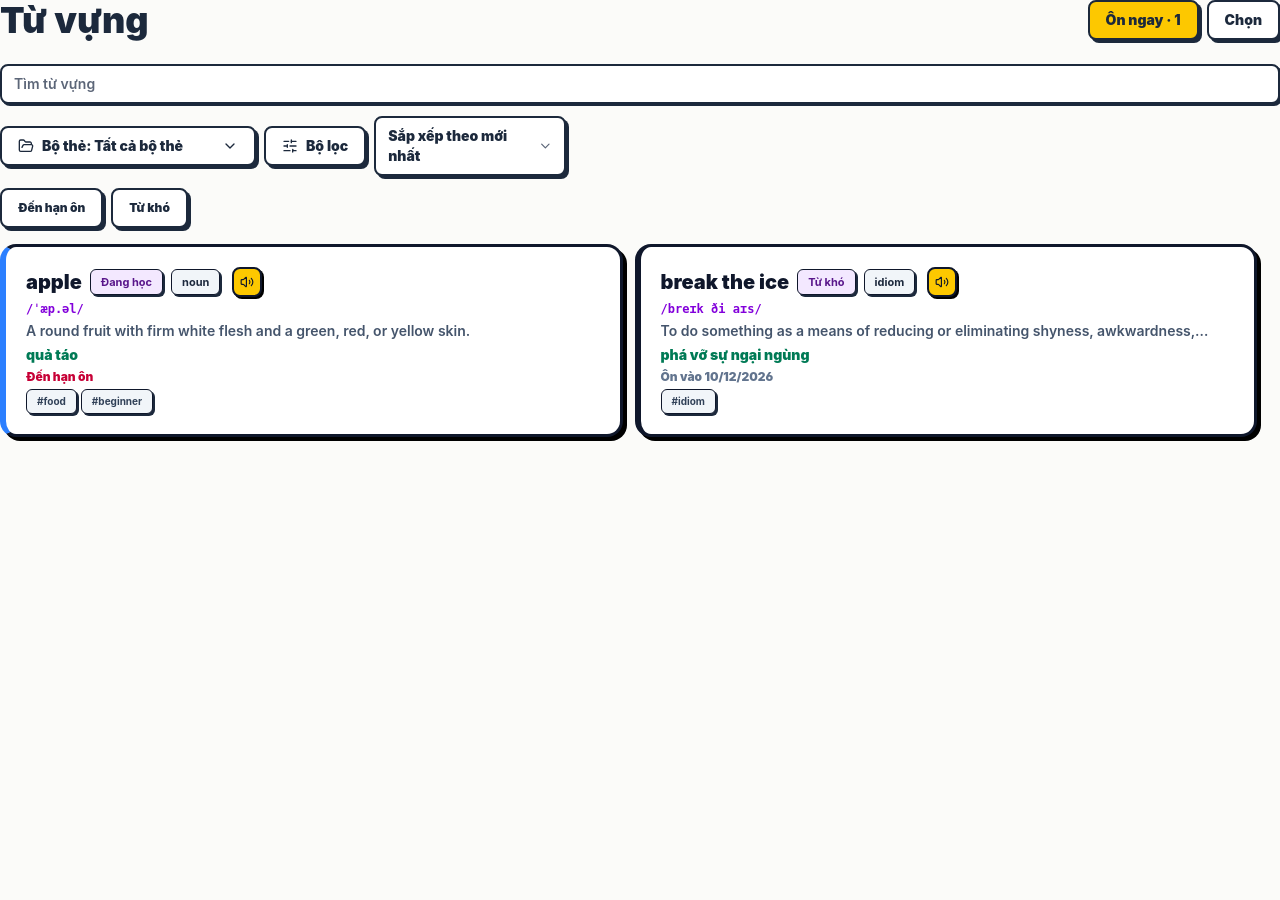
Test: VocabularyListPage bulk lessons › creates named lesson batches and offers the deck list from feedback
The width and height of the screenshot is (1280, 900).
Click the button "Chọn" at (1243, 20), box [1207,0,1279,40]
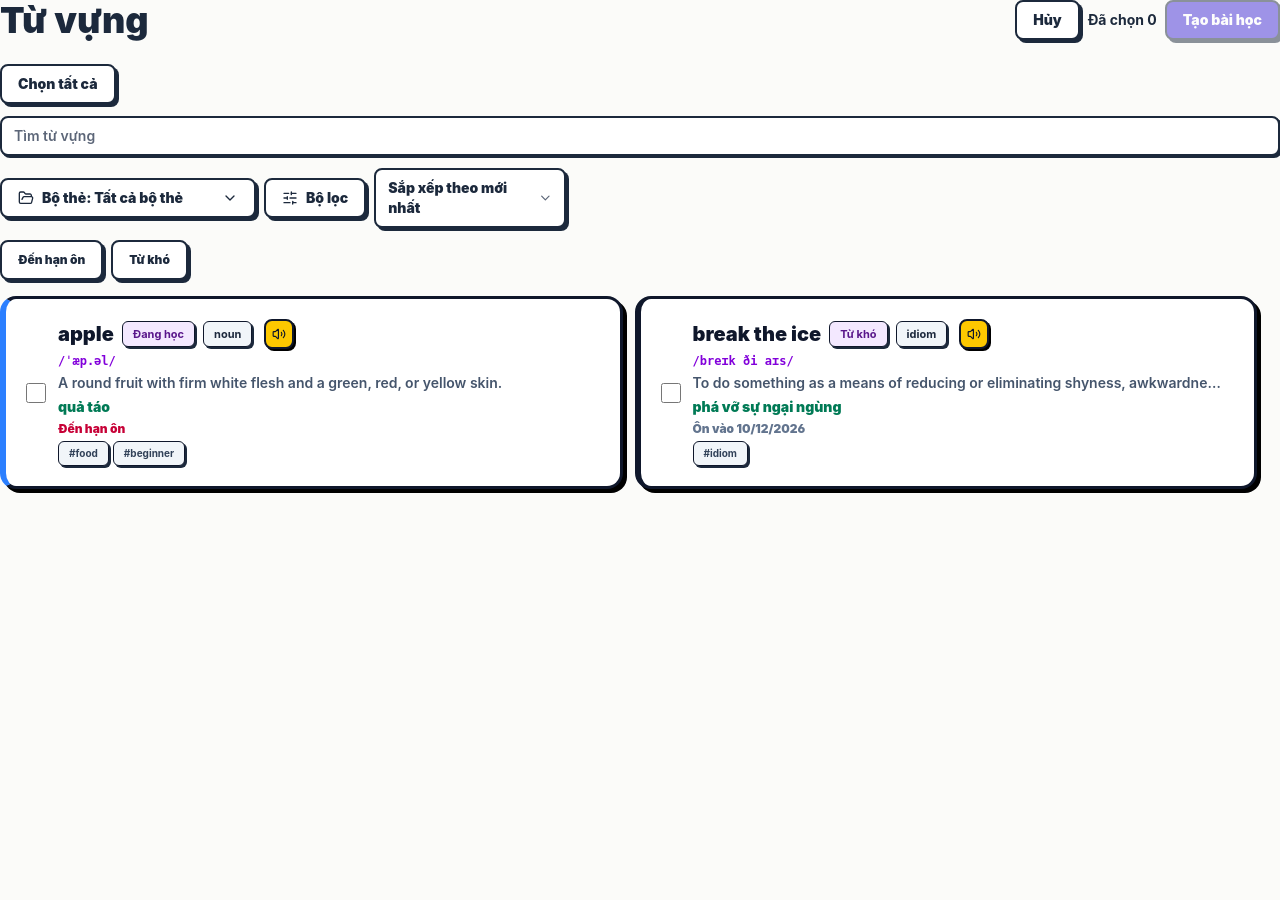
Click the button "Chọn tất cả" at (58, 84), box [0,64,116,104]
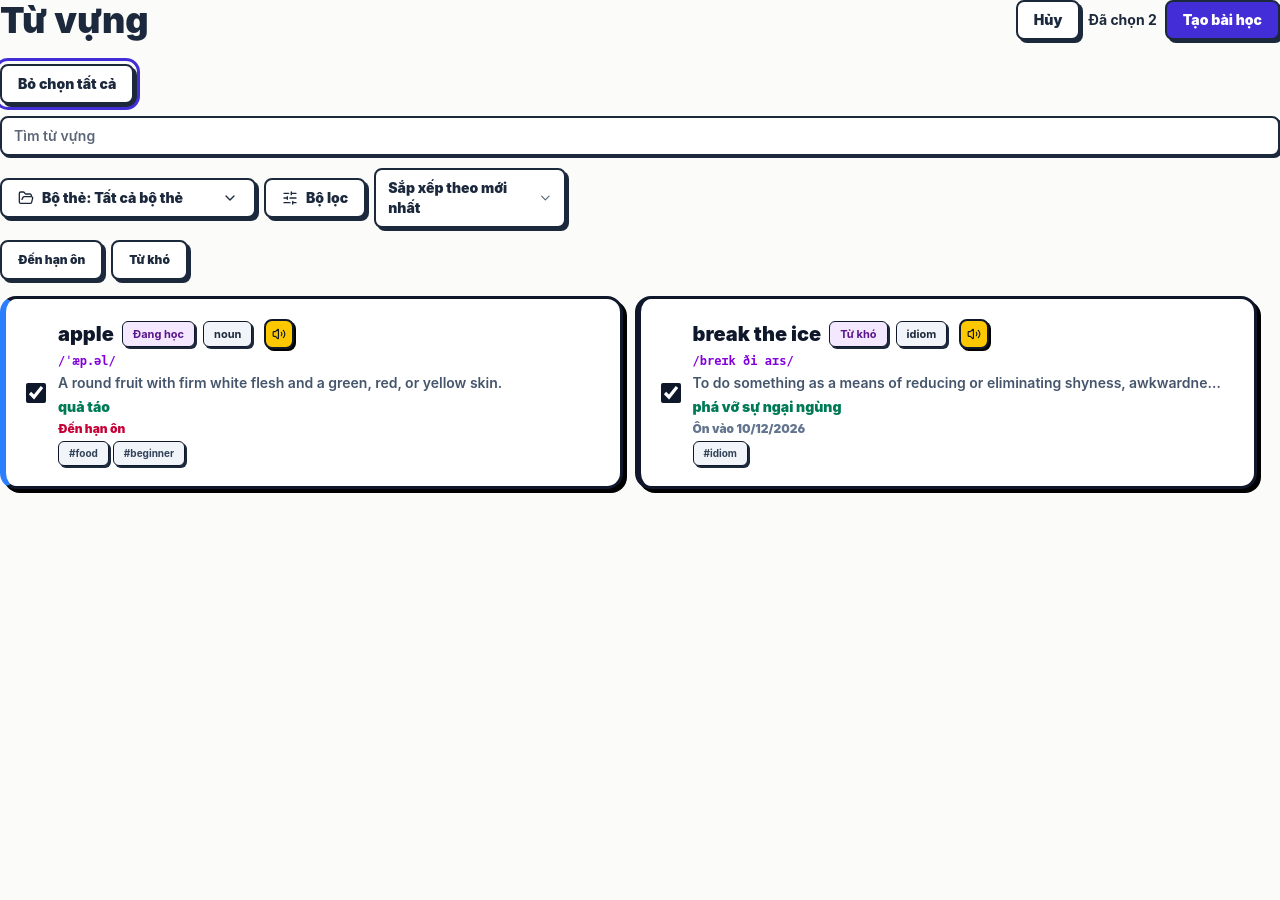
Click the button "Tạo bài học" at (1222, 20), box [1165,0,1279,40]
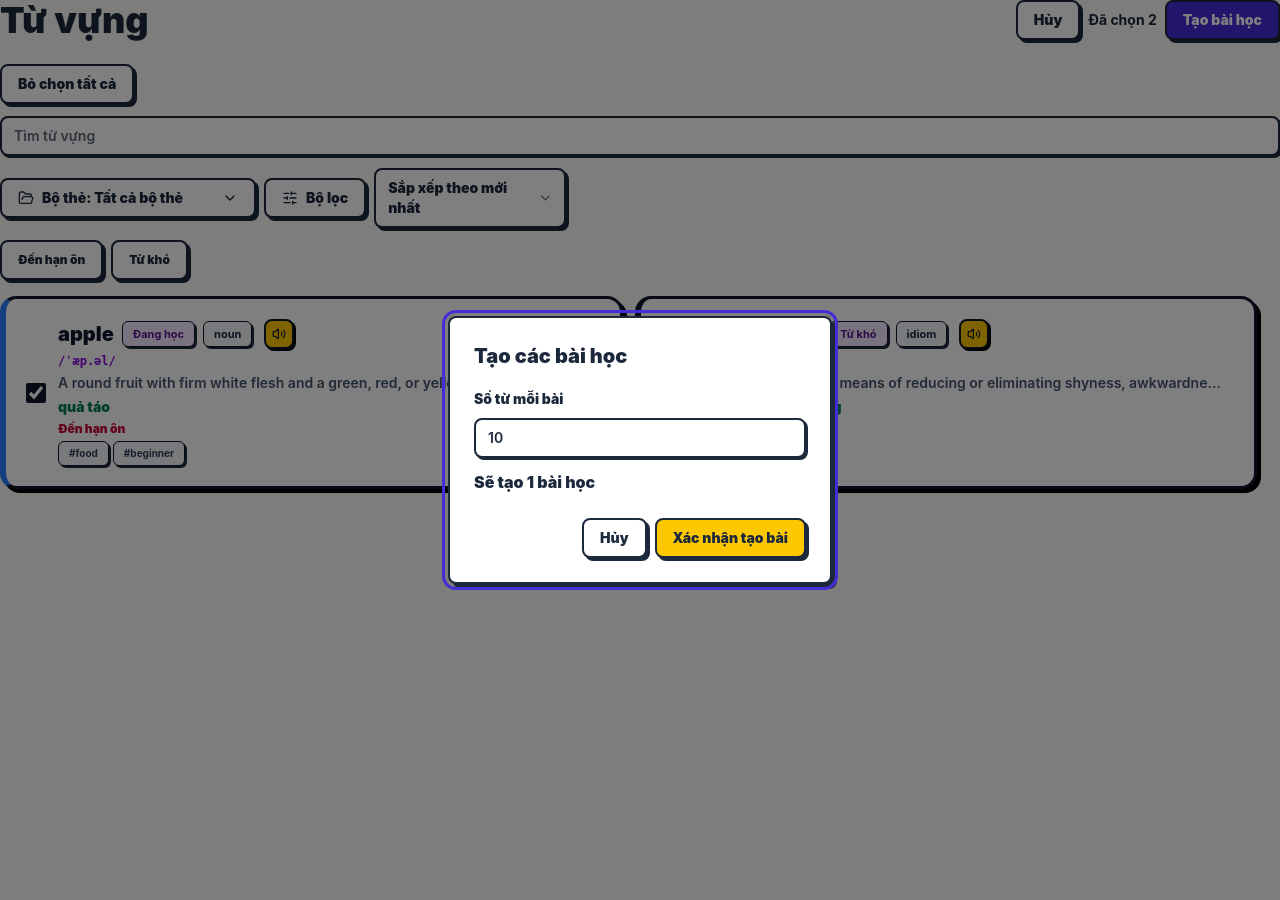
Click the button "Xác nhận tạo bài" at (730, 538), box [654,518,806,558]
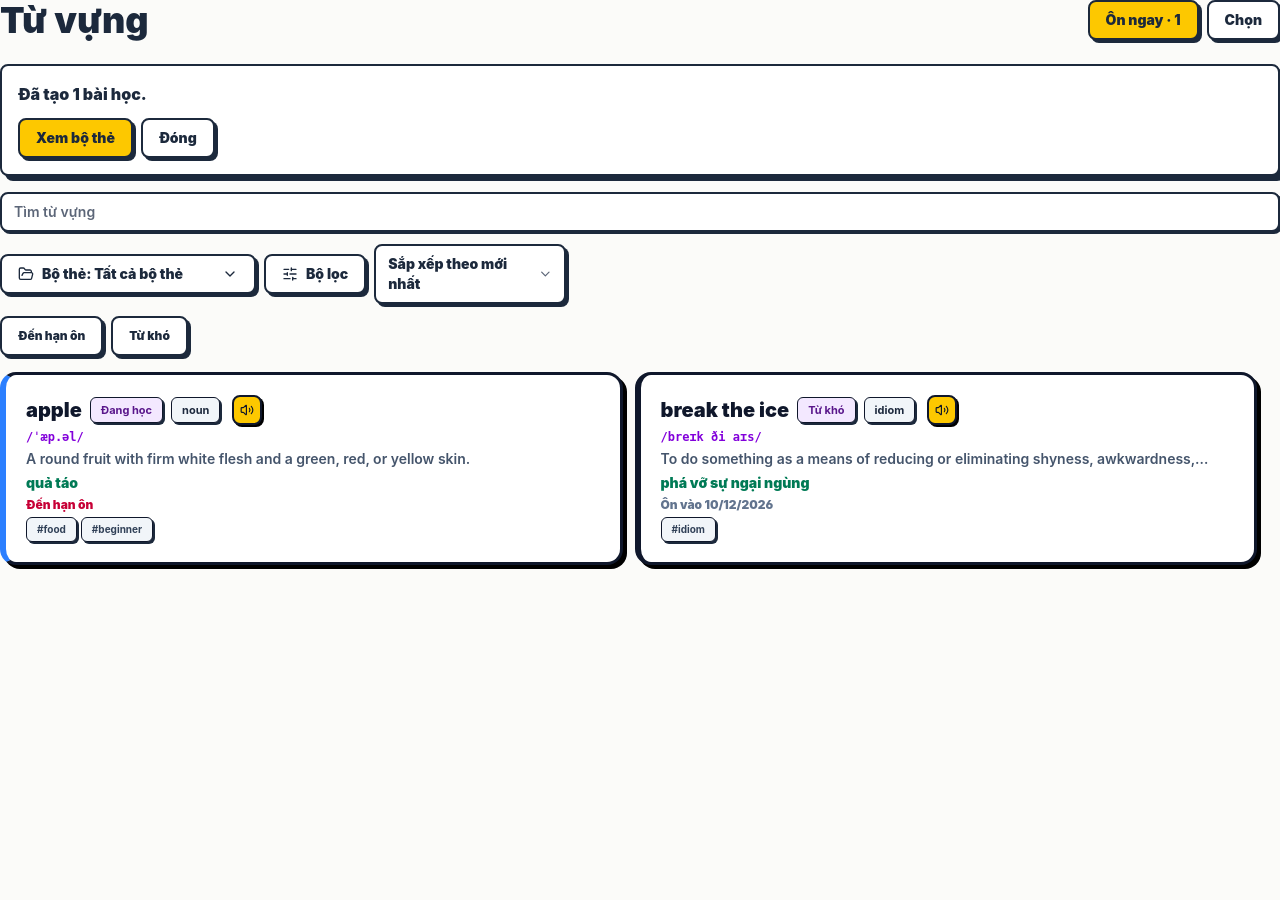
Click the button "Đóng" at (178, 138), box [141,118,215,158]
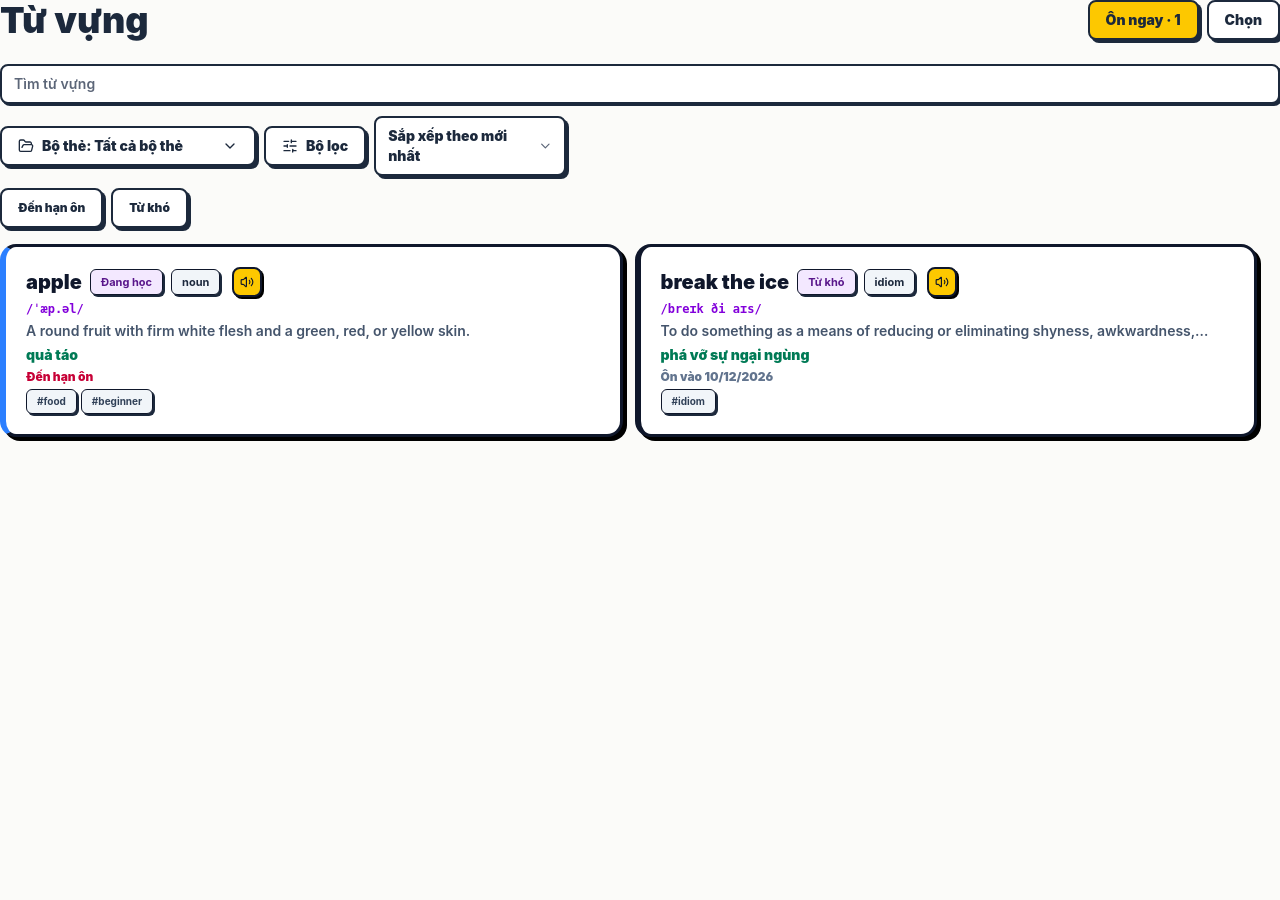
Check: the text "Đã tạo 1 bài học." is gone
